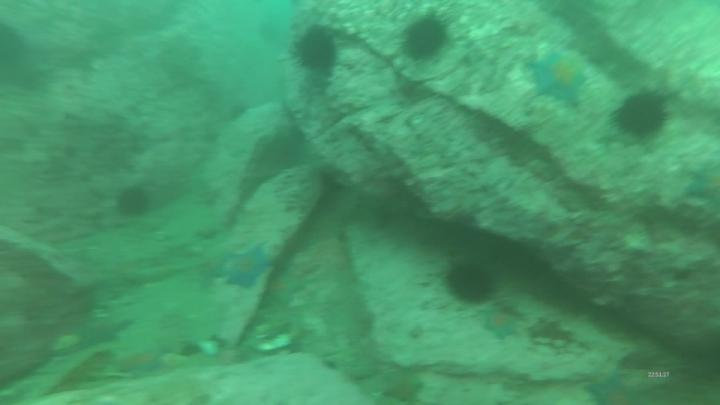echinus: (612, 88, 675, 143), (400, 13, 453, 68), (288, 22, 339, 79), (443, 261, 502, 307), (112, 182, 156, 222), (1, 23, 29, 81)
starfish: (525, 47, 593, 110), (225, 243, 277, 290), (257, 268, 309, 311), (581, 374, 651, 405), (111, 348, 171, 381), (481, 303, 525, 343)
